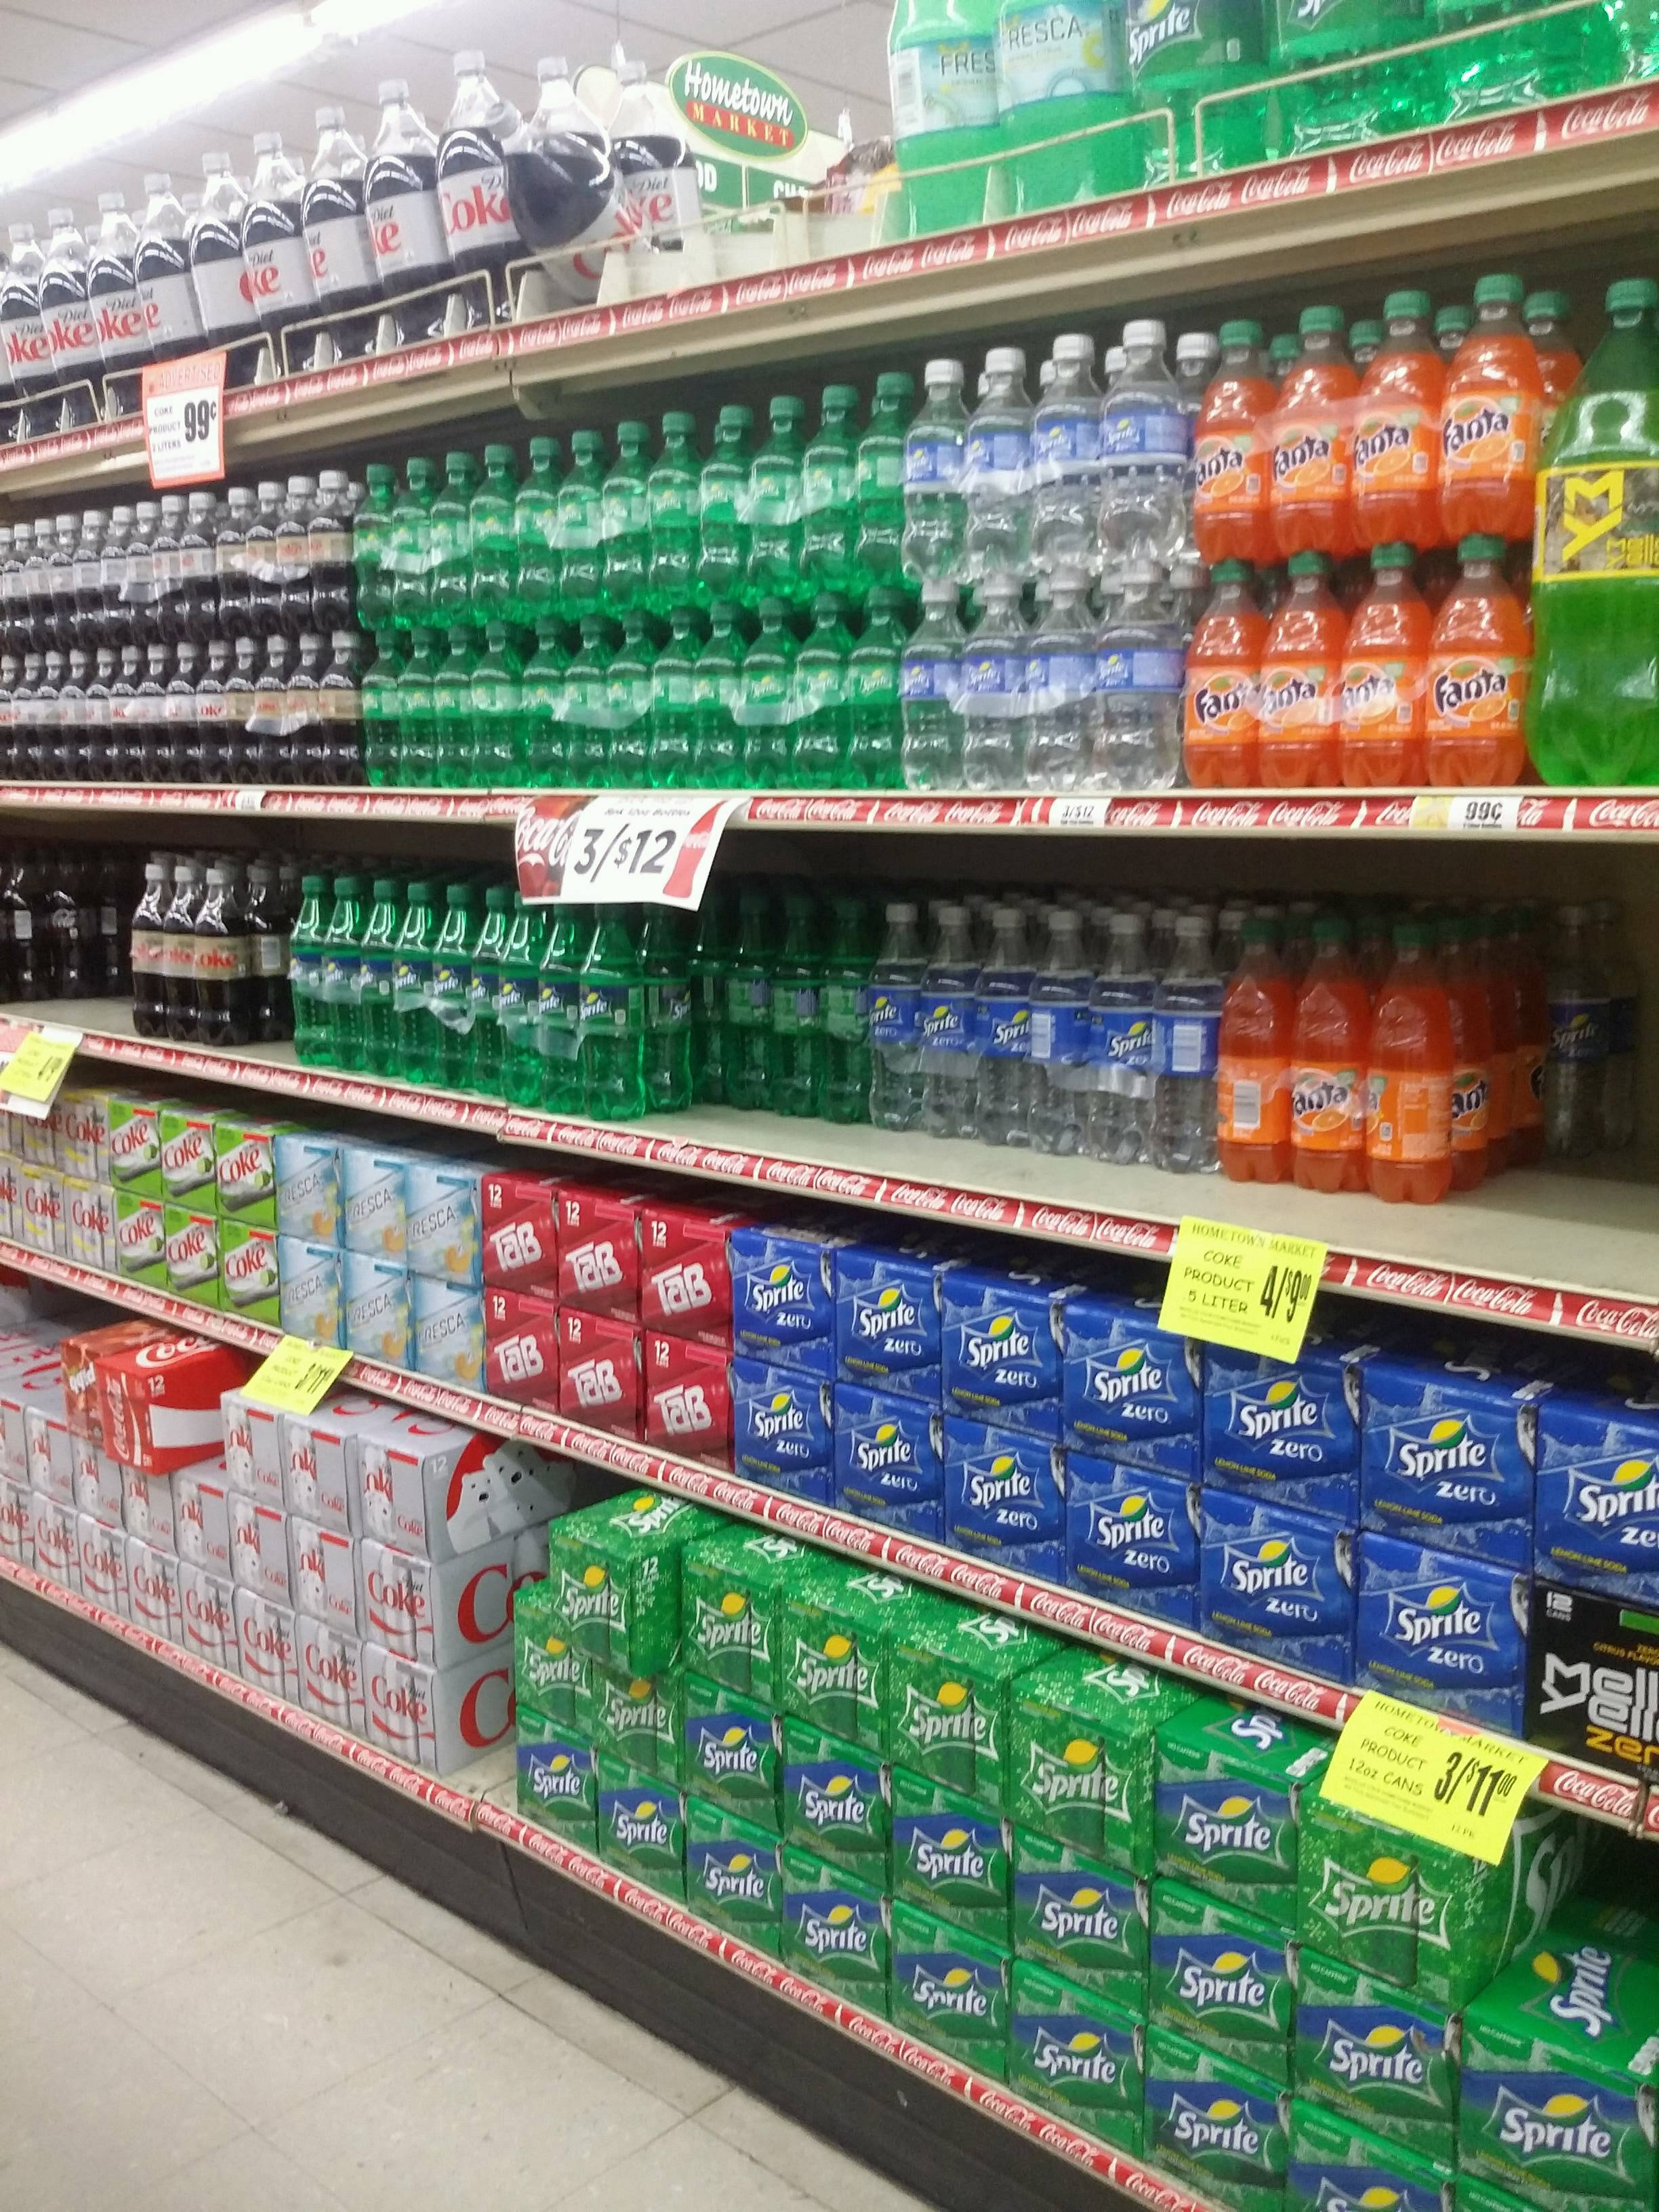Misplacement: (631, 876, 1452, 1285)
Out-of-stock: (430, 1447, 525, 1817), (17, 867, 138, 1031)
